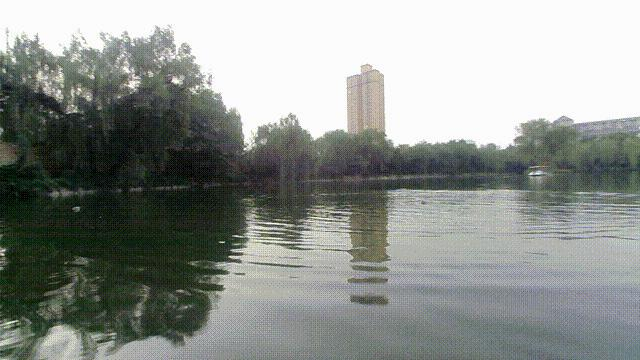Plastic: (70, 203, 84, 214)
